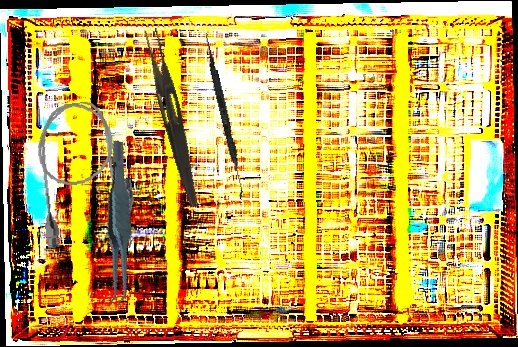Cannula: (30, 97, 140, 258)
Dressing Forceps: (137, 27, 208, 209)
Spatula Surgical: (199, 32, 250, 201)
Tissue Forceps: (75, 140, 161, 309)
